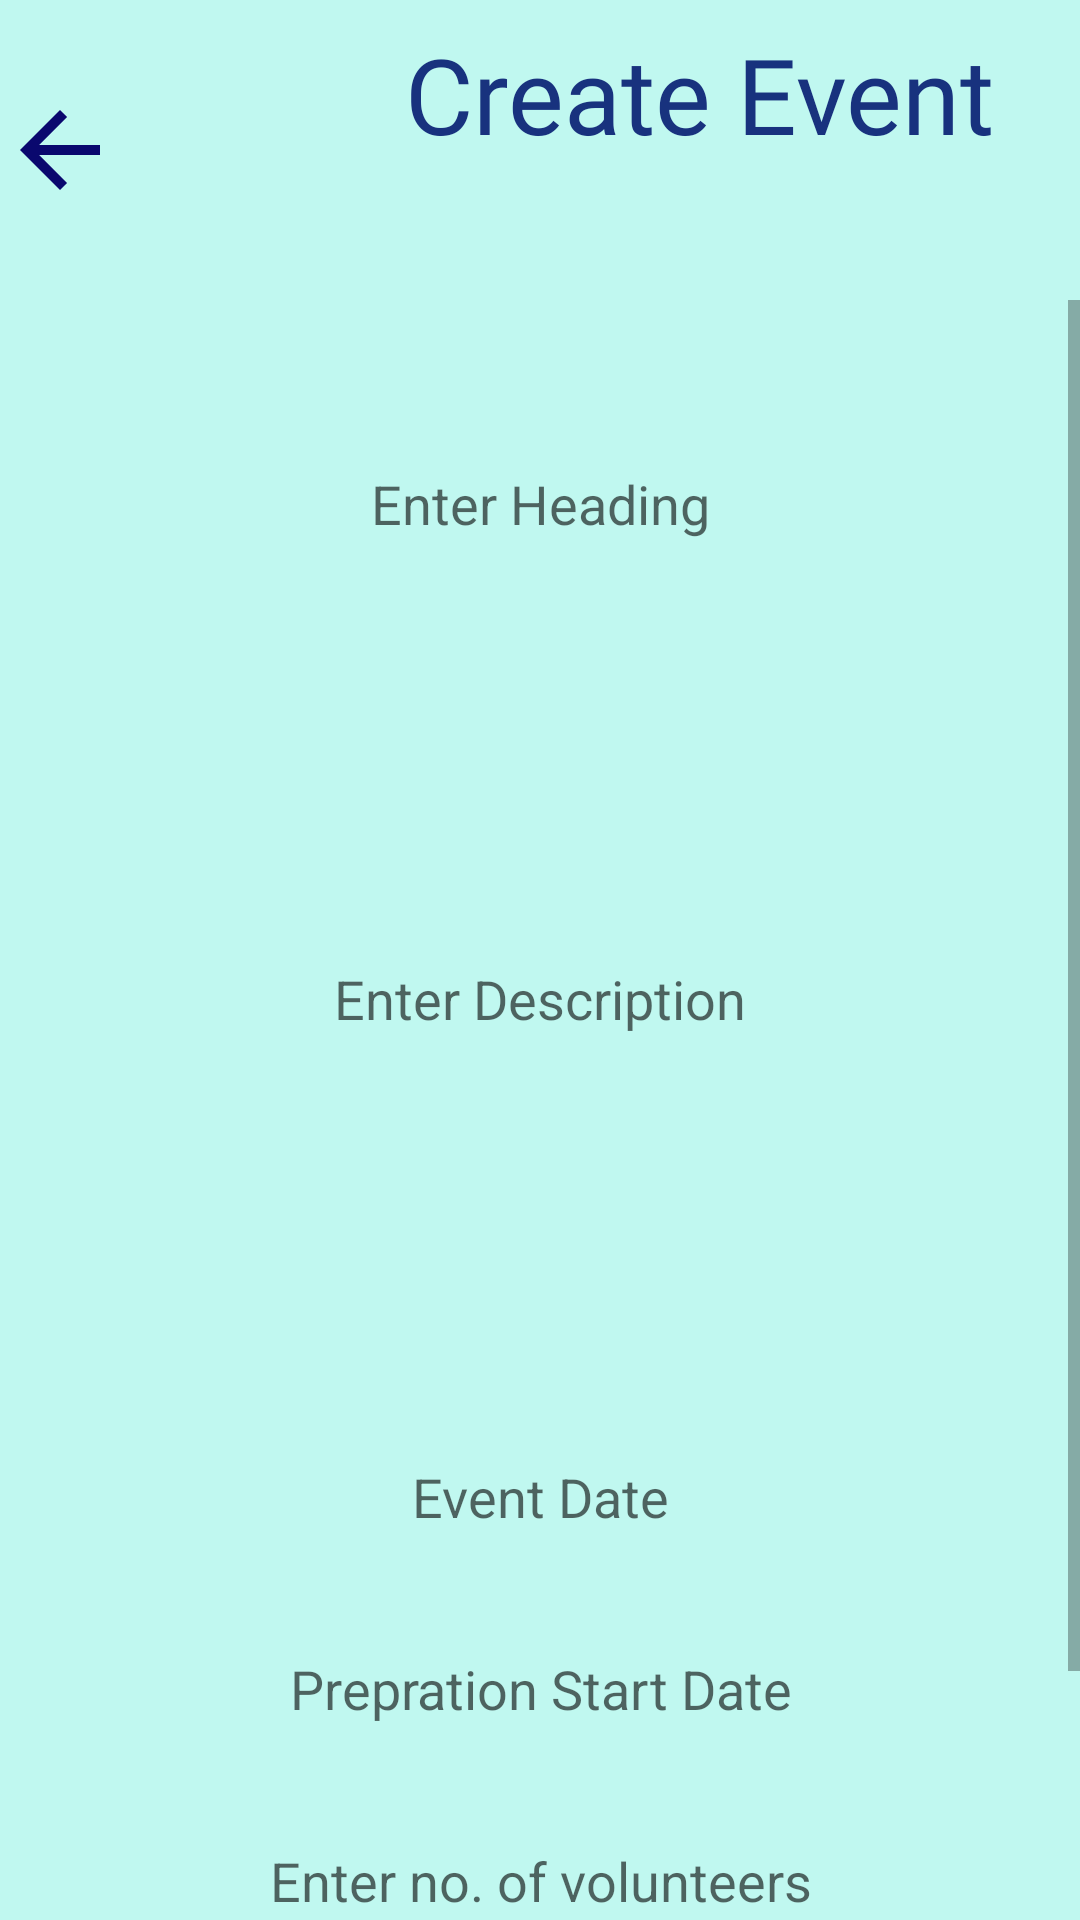

Named icons in this screenshot (1080×1920) and their centers, (x,y):
back: (60,150)
